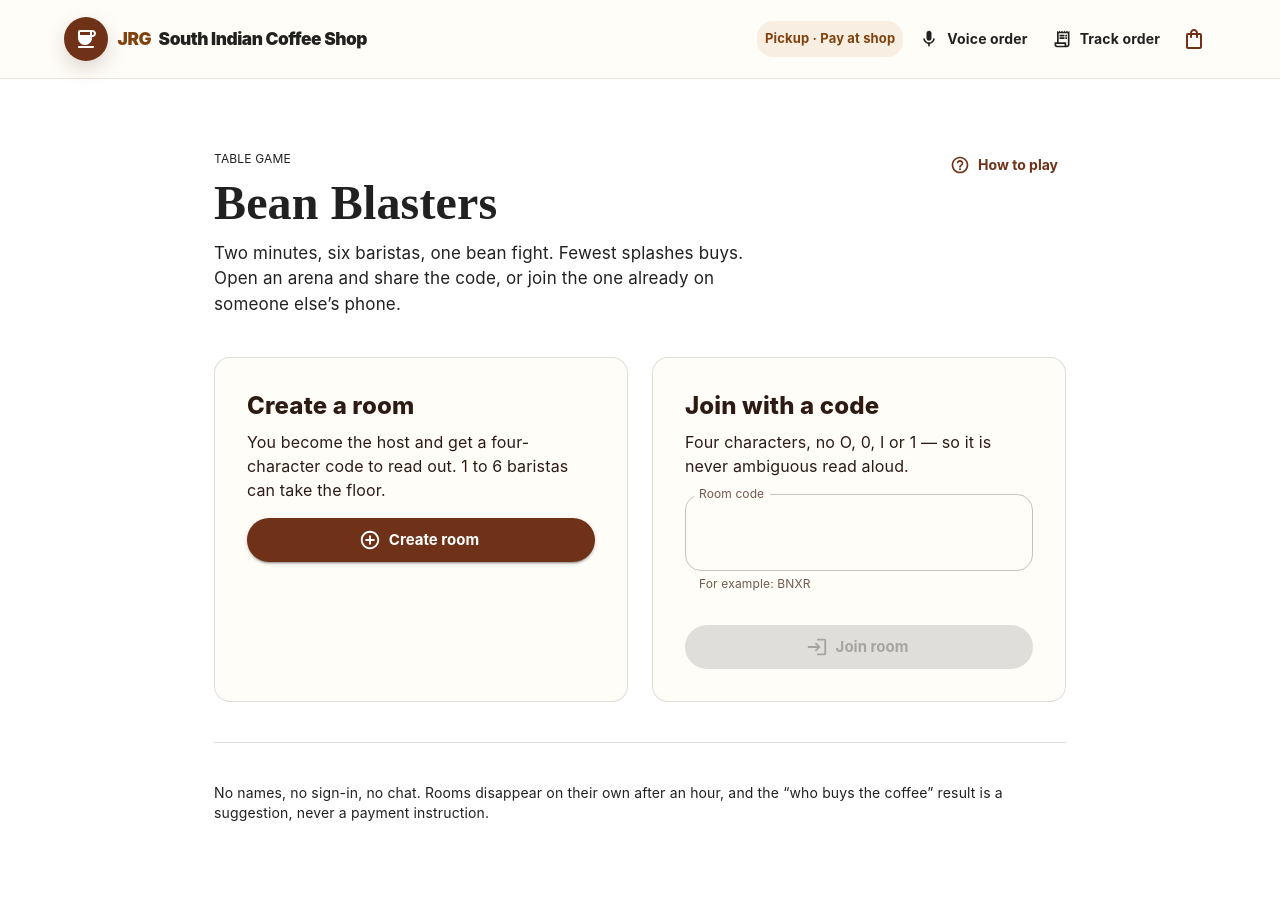
Test: Bean Blasters UI › join errors › renders the ROOM_FULL message
Type "BNXR" into the field labelled "Room code".
click(859, 532); type("BNXR")  # box x1=685 y1=494 x2=1033 y2=570
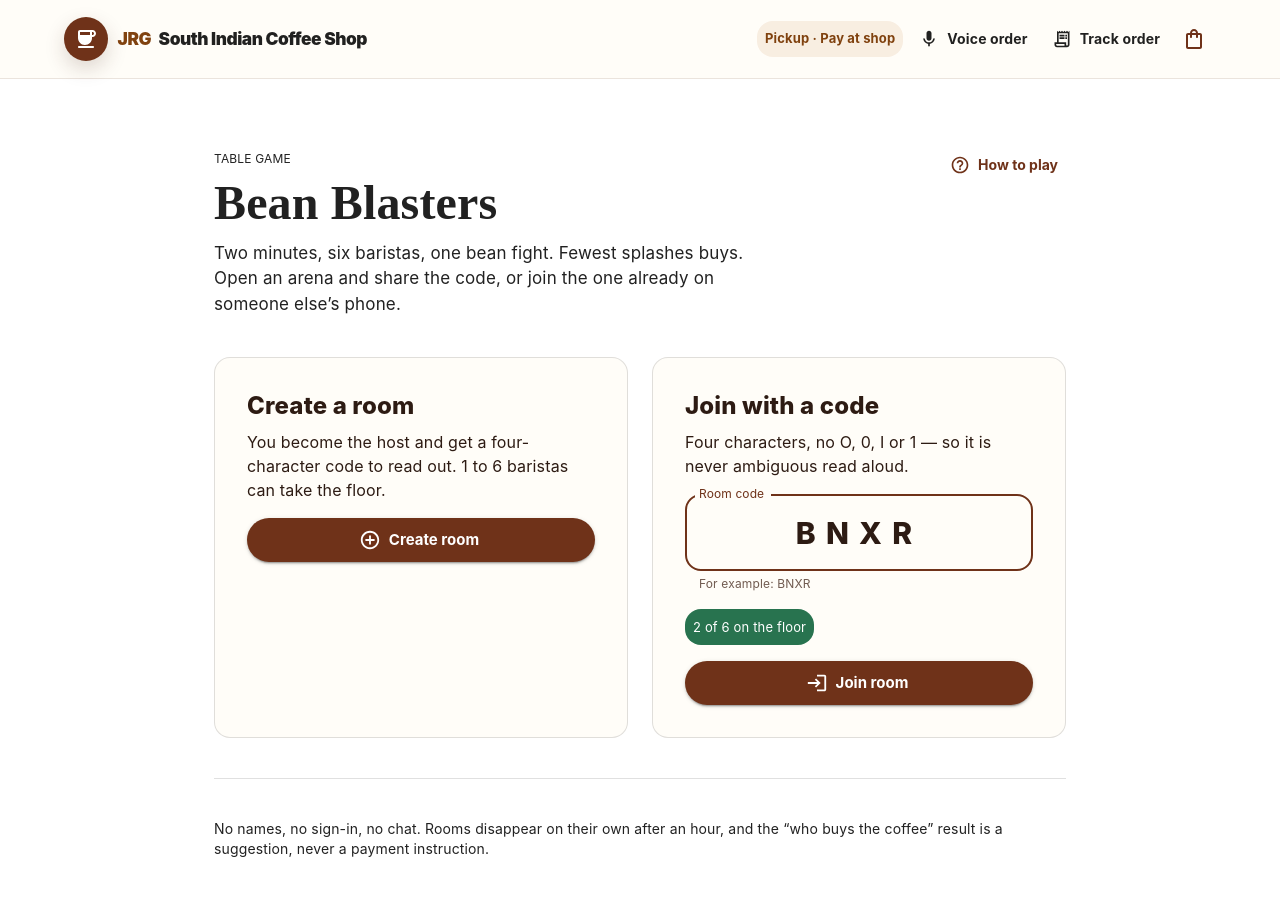
Click the button "Join room".
click(859, 684)  # box x1=685 y1=662 x2=1033 y2=706
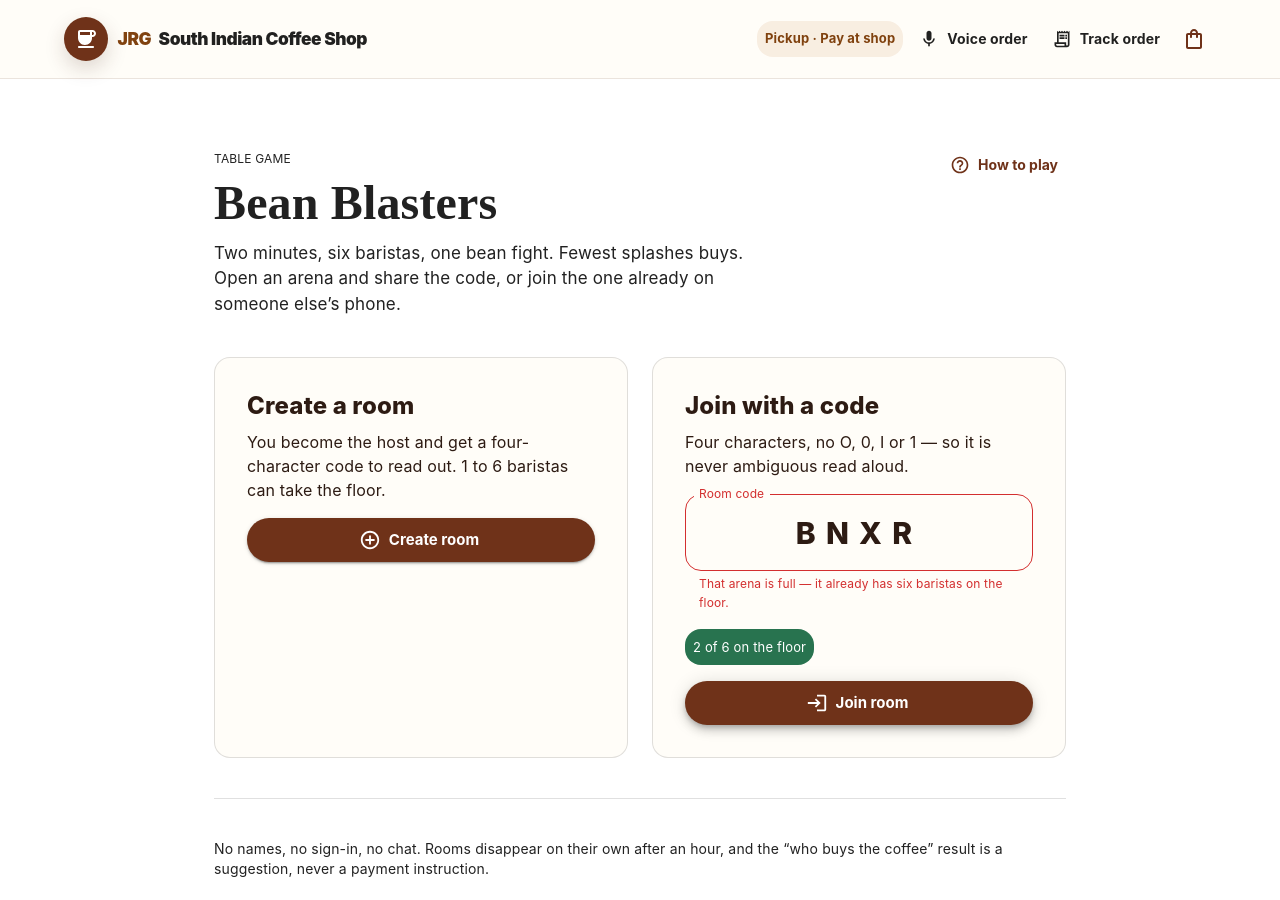
Expected: the text "already has six baristas" is shown, x1=699 y1=576 x2=1003 y2=610
